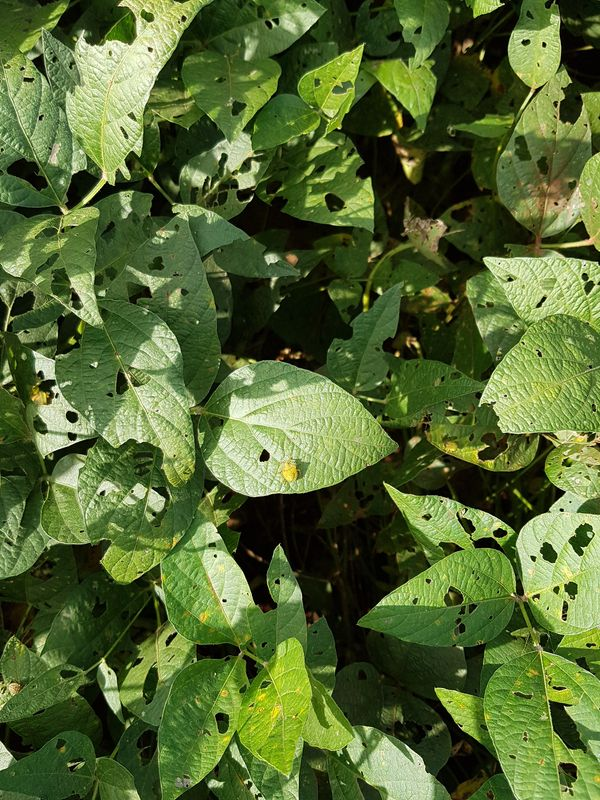Euschistus_heros_ninfa: (273, 455, 305, 488)
